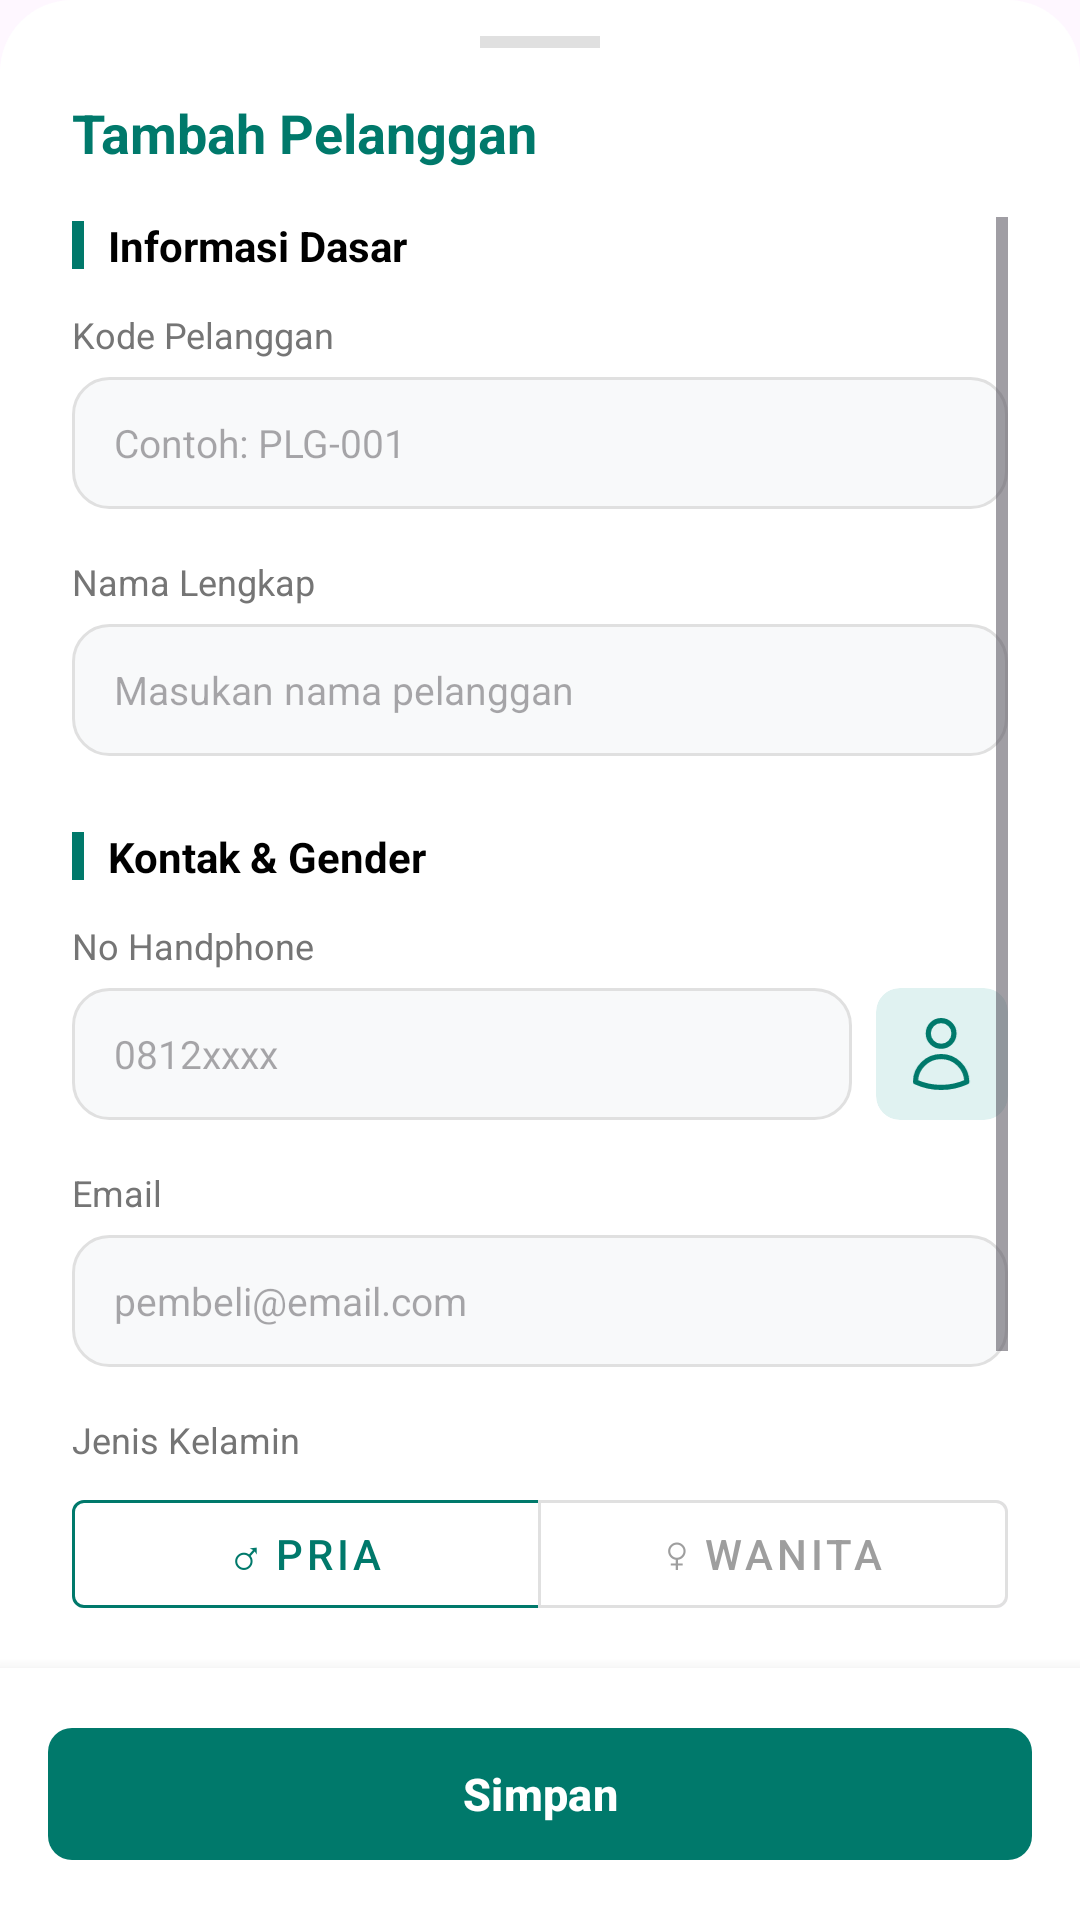

Screen size 1080px x 1920px. Icon name, then its box in pixels as (x1, y1, x2, y2):
user: (913, 1018, 970, 1090)
